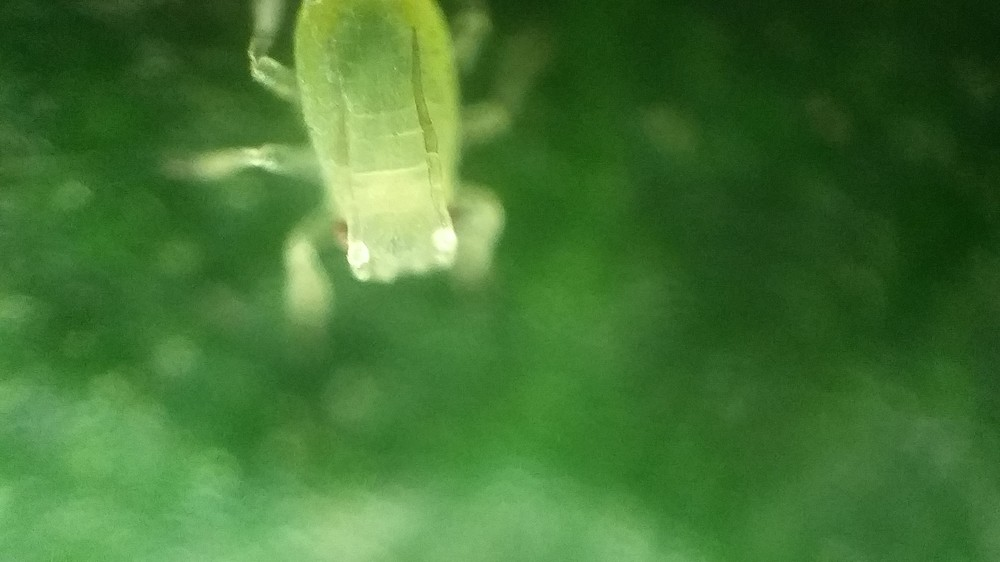Pulgon: (197, 1, 580, 350)
